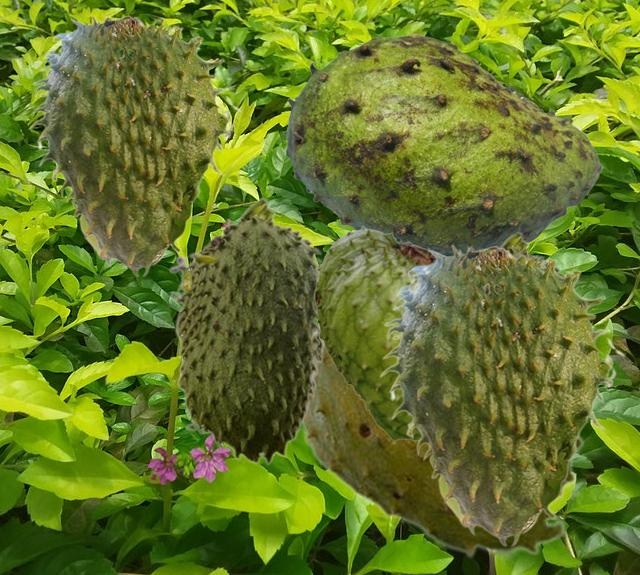guyabano: (379, 244, 625, 546), (283, 33, 601, 254), (300, 350, 584, 561), (28, 14, 241, 276), (169, 197, 324, 464), (314, 224, 434, 440), (486, 230, 564, 288)
